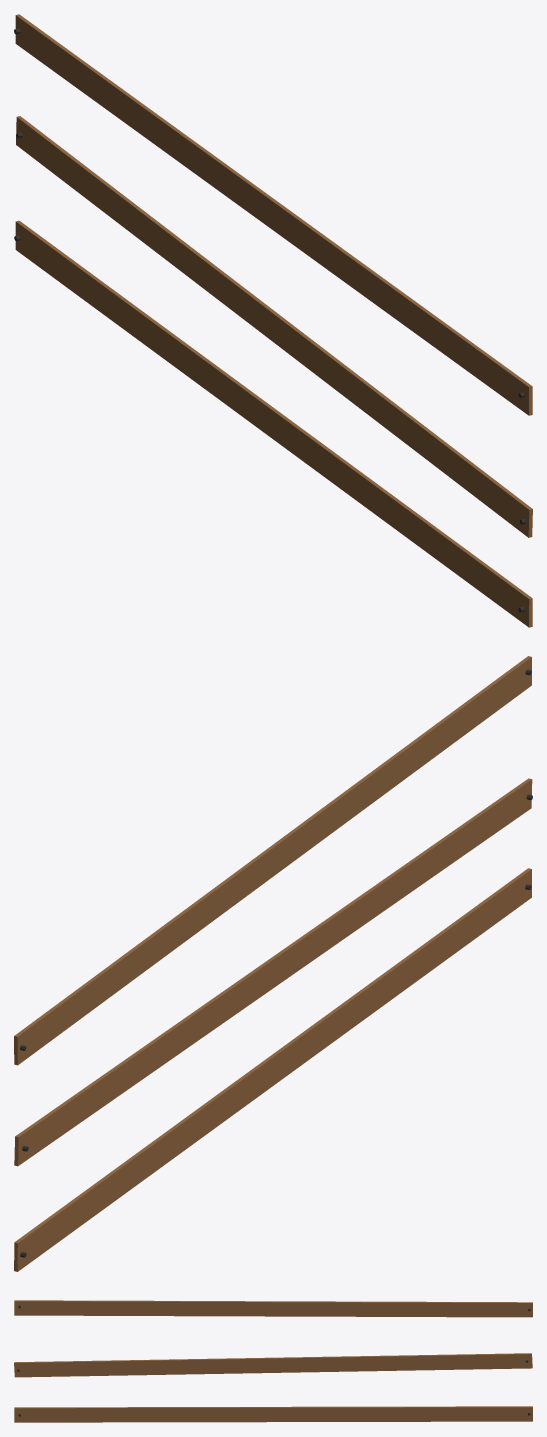
The model's file is fencenopost.glb.
3 renders of one model, top to bottom at view 1: azimuth 30°, elevation 25°; view 2: azimuth 150°, elevation 25°; view 3: azimuth 270°, elevation 25°, orthographic. The views are drawn at different scales.
Parts seen in each view (by area): view 1: Cylinder.003; view 2: Cylinder.003; view 3: Cylinder.003.
Part boxes in pixels (box(x1,y1,x2,y2)): Cylinder.003: box(14, 14, 532, 627); Cylinder.003: box(14, 656, 532, 1271); Cylinder.003: box(14, 1300, 532, 1422).
Size of what is drawn, in the model's own units: 0.0491 by 1.27 by 4.9.
